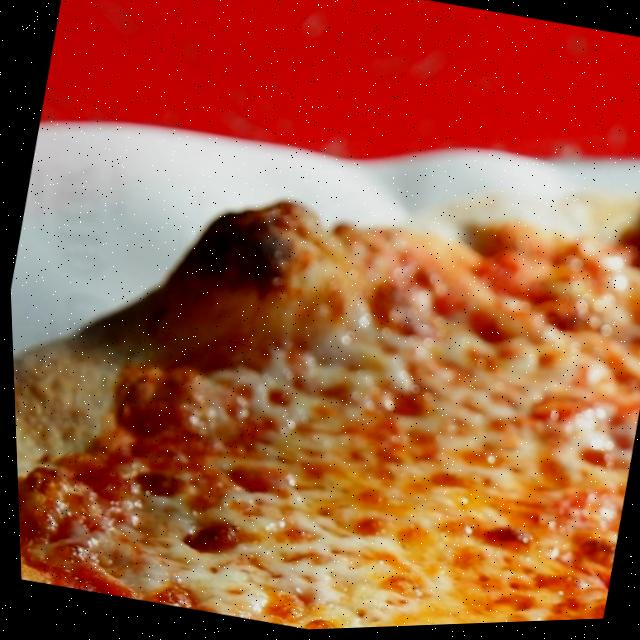pizza: (3, 75, 640, 640)
